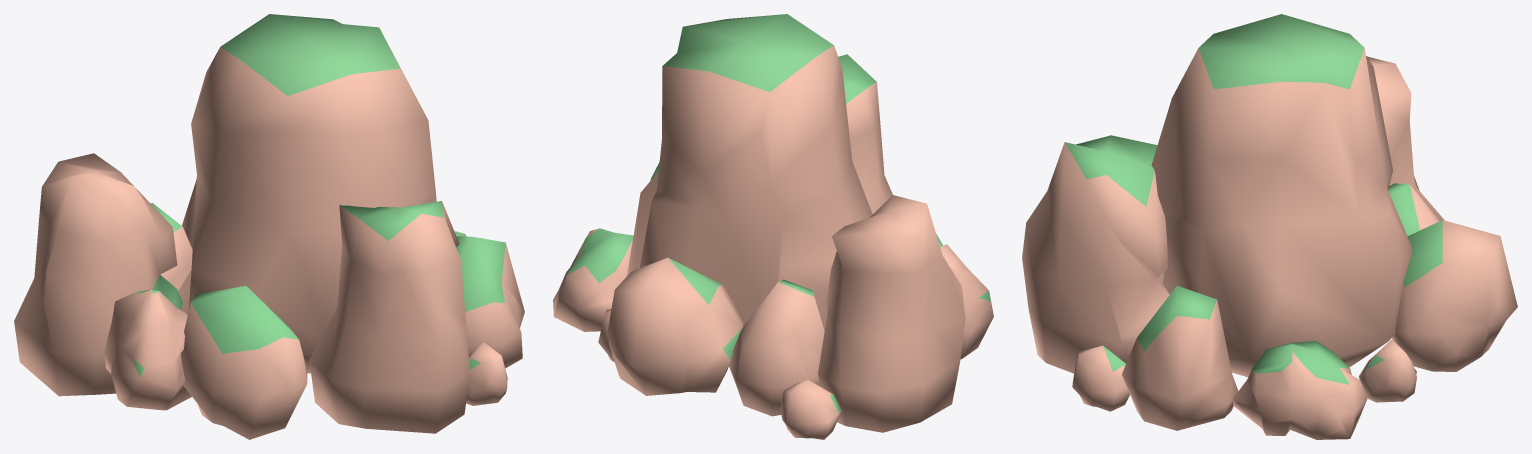
The model's file is caillou.fbx.
3 views of the same model, side by side, from view 1: azimuth 30°, elevation 25°; view 2: azimuth 150°, elevation 25°; view 3: azimuth 270°, elevation 25° (orthographic). The views are drawn at different scales.
Visible parts, largest first — view 1: Caillou; view 2: Caillou; view 3: Caillou.
Part boxes in pixels (x1,y1,x2,y2): Caillou: [14, 14, 524, 439]; Caillou: [553, 14, 993, 439]; Caillou: [1022, 14, 1517, 439].
Bounding box in the file's own units: 10 × 7 × 10.
